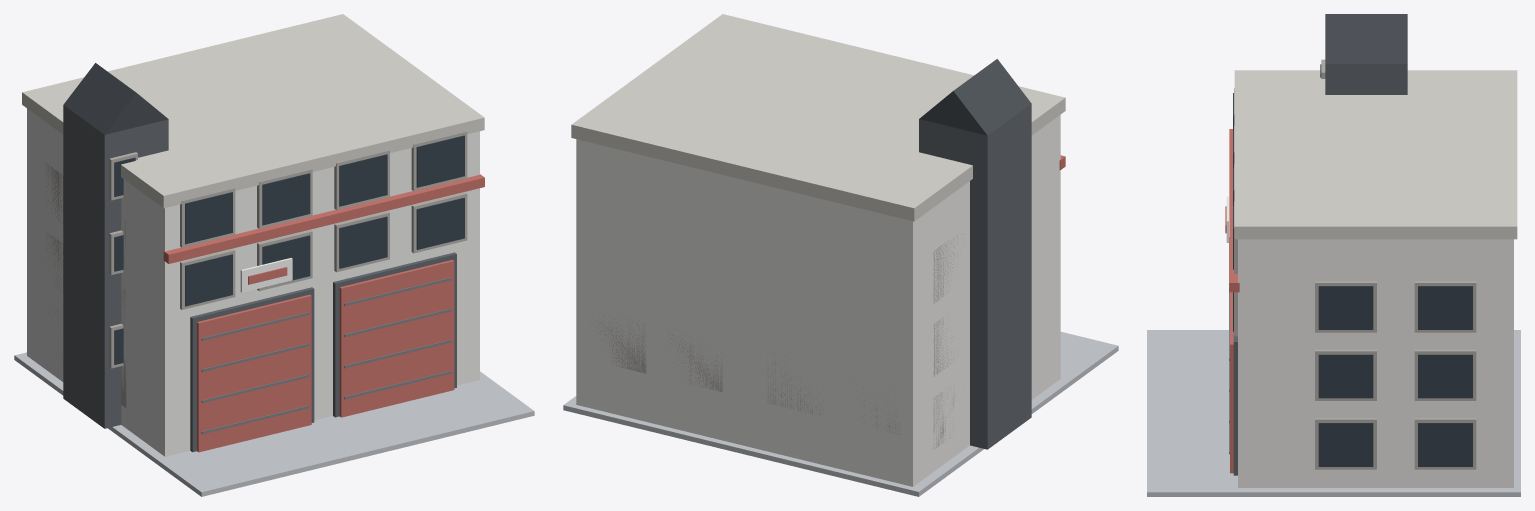
File: service_fire.glb
3 views of the same model, side by side, from view 1: azimuth 30°, elevation 25°; view 2: azimuth 150°, elevation 25°; view 3: azimuth 270°, elevation 25° (orthographic). The views are drawn at different scales.
Parts seen in each view (by area): view 1: fire; view 2: fire; view 3: fire.
Part boxes in pixels (left/top/right/bottom): fire: left=14, top=14, right=534, bottom=496; fire: left=563, top=14, right=1118, bottom=496; fire: left=1147, top=14, right=1520, bottom=496.
Size of the model in its own units: 11.46 by 10.7 by 10.9.
Materials: 2 (1 with a texture image).
